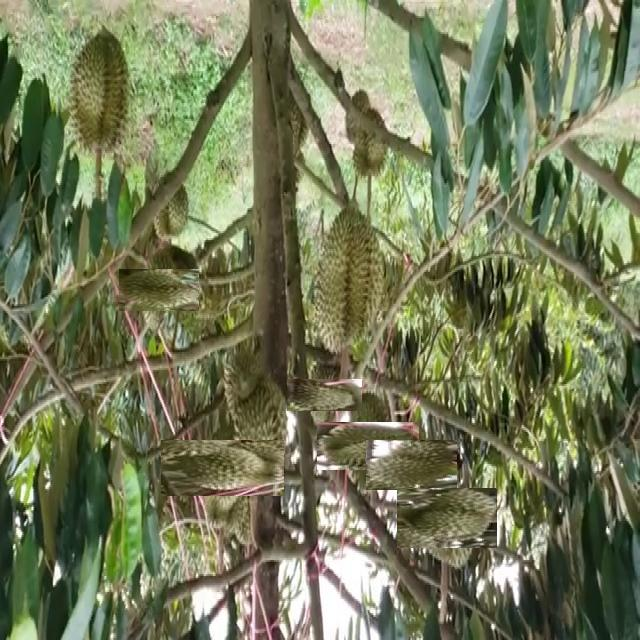durian: (309, 198, 389, 365), (64, 22, 134, 164), (220, 352, 290, 486), (178, 424, 267, 513), (406, 478, 487, 559), (330, 408, 406, 483), (376, 429, 448, 500), (343, 88, 392, 186), (149, 164, 195, 248), (128, 259, 189, 321), (297, 368, 352, 422)
